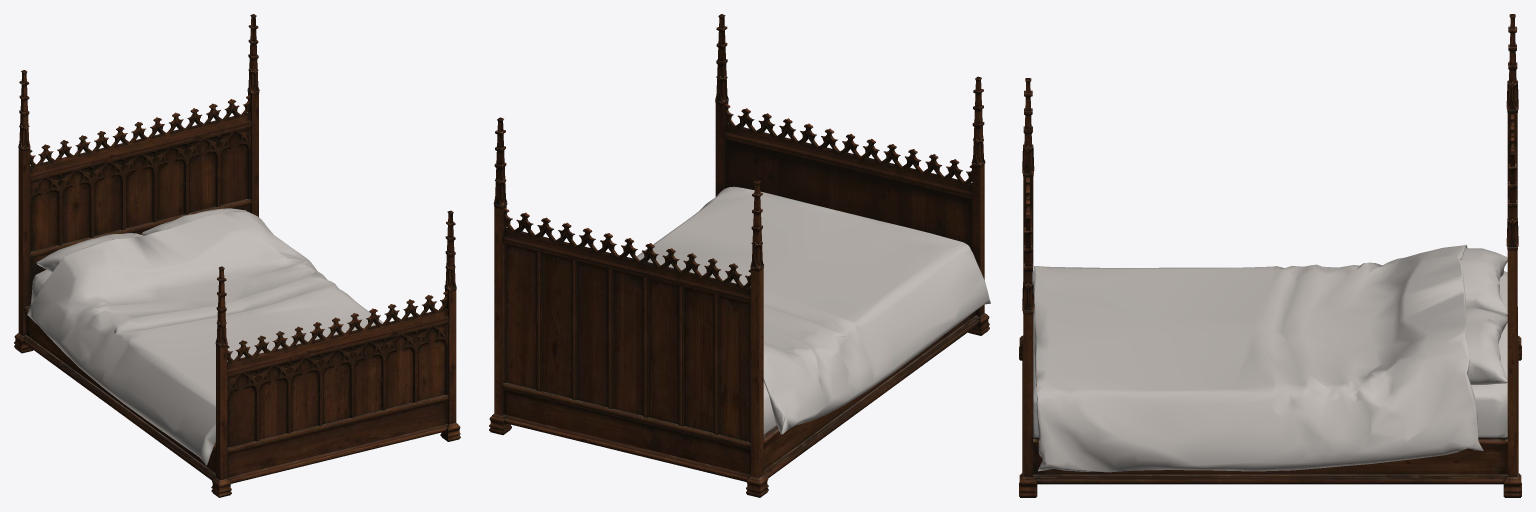
Rendered from GothicBed_01.glb.
3 views of the same model, side by side, from view 1: azimuth 30°, elevation 25°; view 2: azimuth 150°, elevation 25°; view 3: azimuth 270°, elevation 25° (orthographic). The views are drawn at different scales.
Parts seen in each view (by area): view 1: GothicBed_01; view 2: GothicBed_01; view 3: GothicBed_01.
Boxes of the visible parts, left/top/right/bottom form: GothicBed_01: left=14, top=14, right=460, bottom=497; GothicBed_01: left=489, top=14, right=990, bottom=497; GothicBed_01: left=1019, top=14, right=1521, bottom=497.
Bounding box in the file's own units: 1.49 × 1.53 × 2.04.
Materials: 1 (1 with a texture image).
